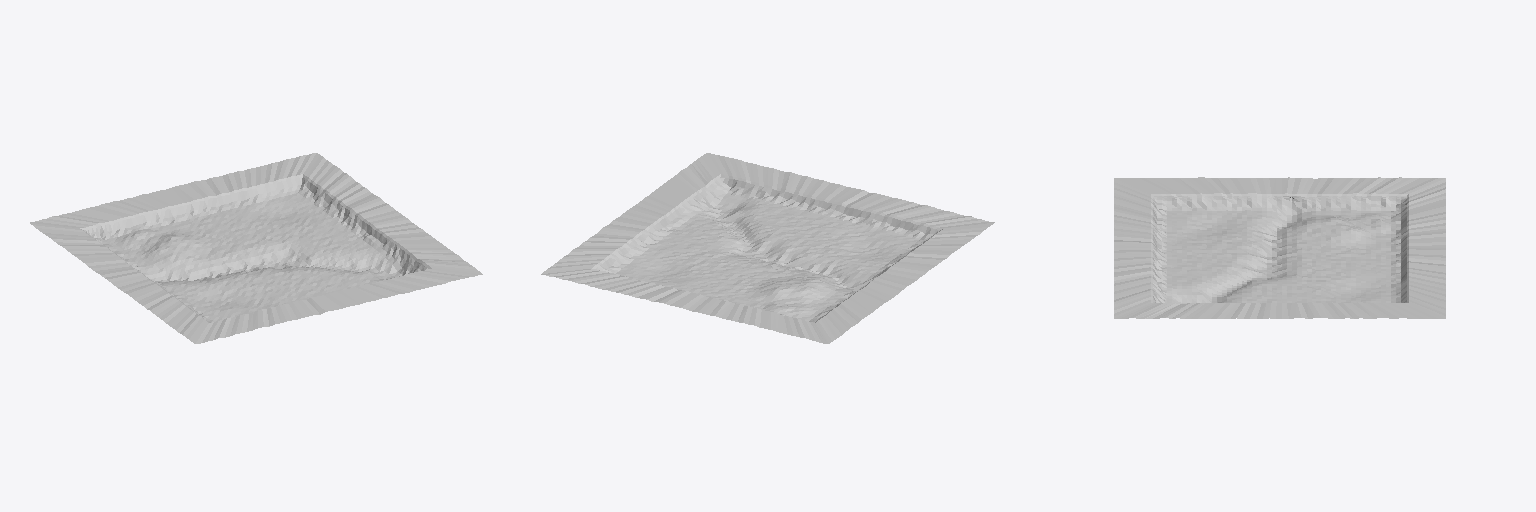
Rendered from prototypemap01.obj.
3 views of the same model, side by side, from view 1: azimuth 30°, elevation 25°; view 2: azimuth 150°, elevation 25°; view 3: azimuth 270°, elevation 25° (orthographic).
Visible parts, largest first — view 1: Plane; view 2: Plane; view 3: Plane.
Boxes of the visible parts, x1,y1,x2,y2 form: Plane: [30, 153, 482, 343]; Plane: [541, 153, 994, 343]; Plane: [1114, 177, 1445, 318].
Bounding box in the file's own units: 39.47 × 2.19 × 39.47.